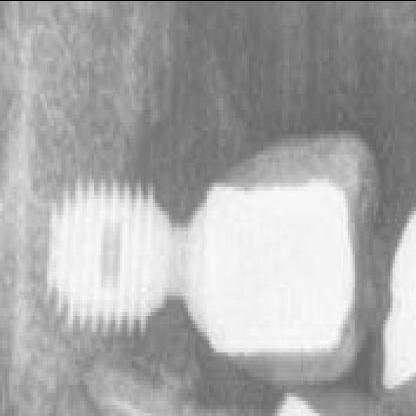Bicon: (38, 175, 186, 327)
